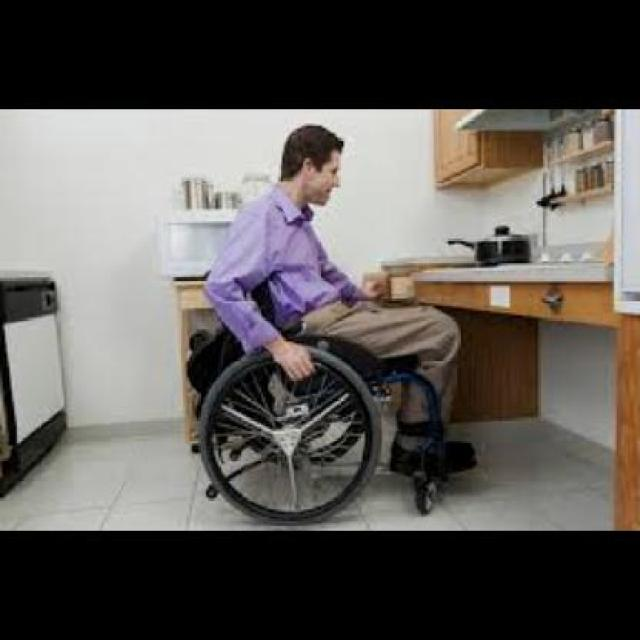wheelchairs: (187, 341, 464, 518)
